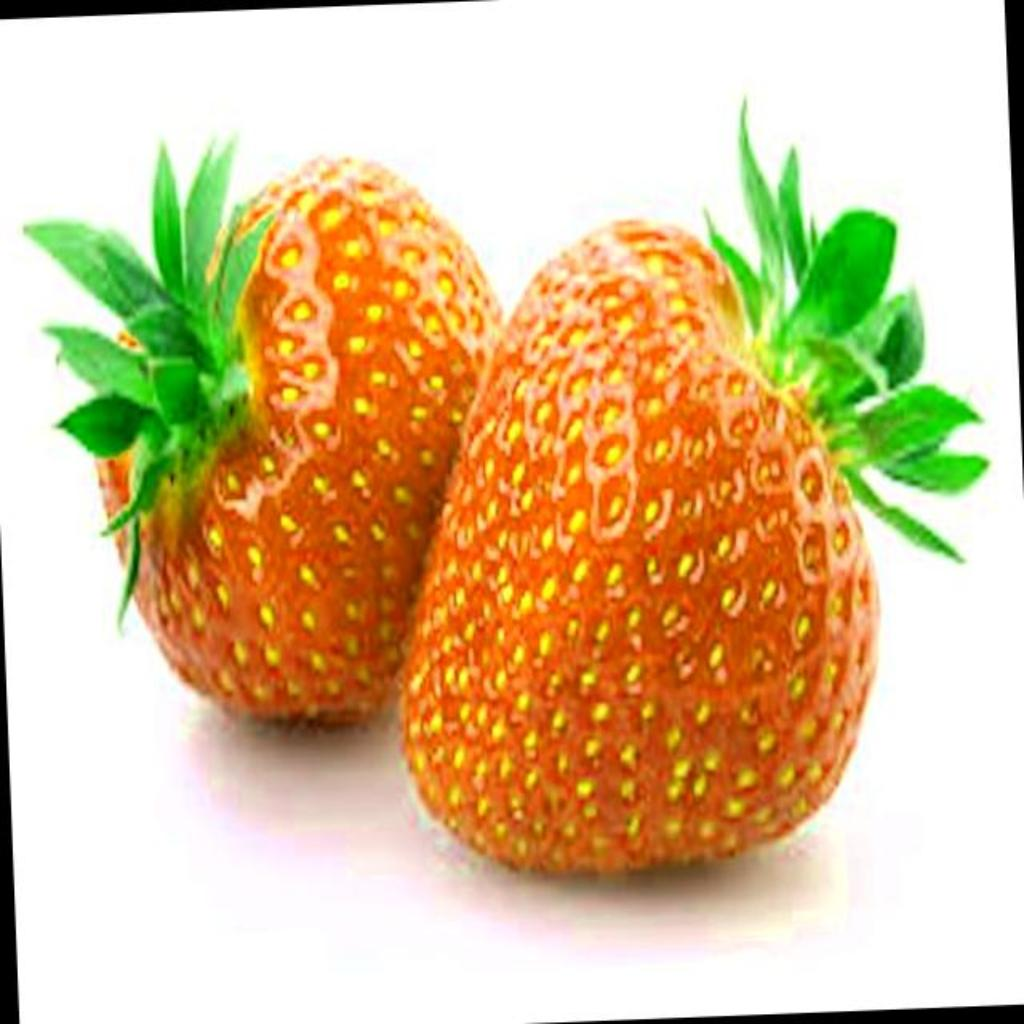strawberry: (404, 118, 986, 871), (26, 142, 500, 723)
